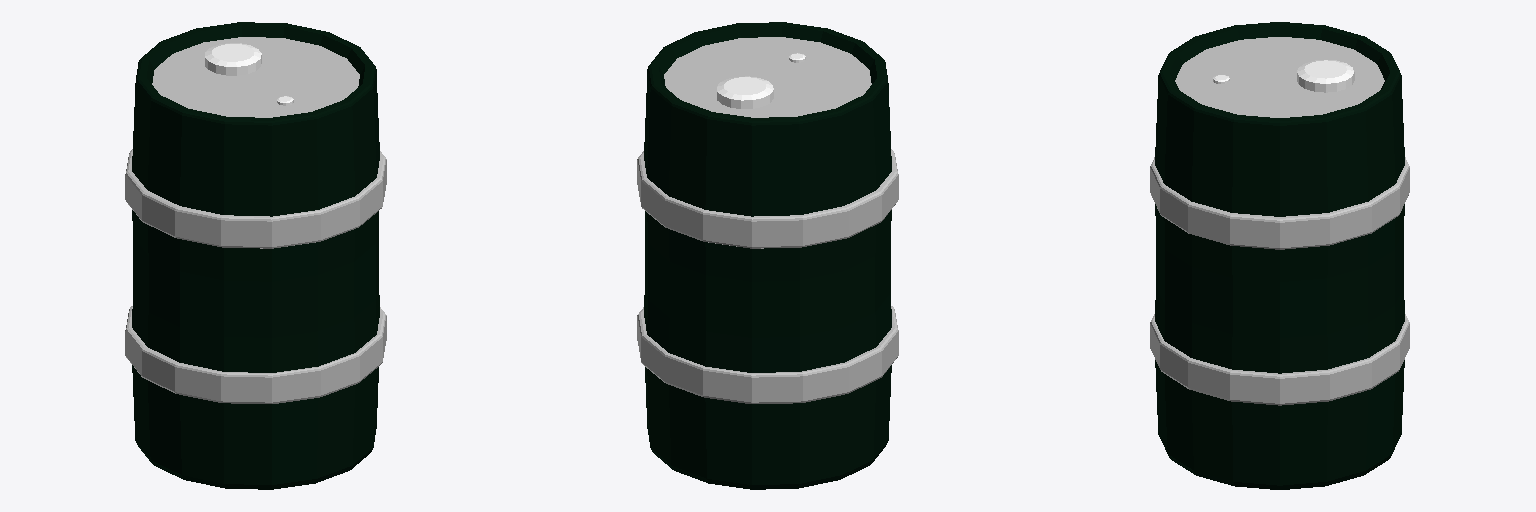
The model's file is loading_barrel.obj.
3 views of the same model, side by side, from view 1: azimuth 30°, elevation 25°; view 2: azimuth 150°, elevation 25°; view 3: azimuth 270°, elevation 25° (orthographic).
Visible parts, largest first — view 1: Circle.004; view 2: Circle.004; view 3: Circle.004.
Boxes of the visible parts, x1,y1,x2,y2 form: Circle.004: [125, 22, 386, 489]; Circle.004: [637, 22, 898, 489]; Circle.004: [1150, 22, 1409, 489].
Bounding box in the file's own units: 0.7895 × 1.23 × 0.7756.